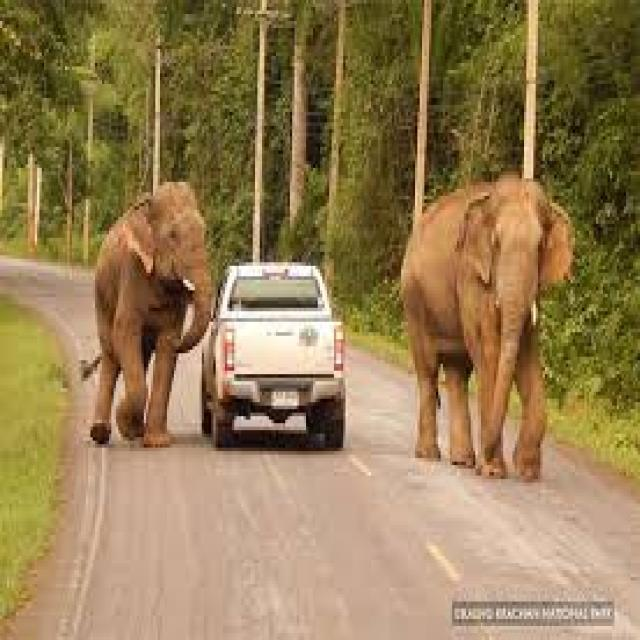Elephant: (399, 172, 565, 483), (80, 182, 216, 462)
